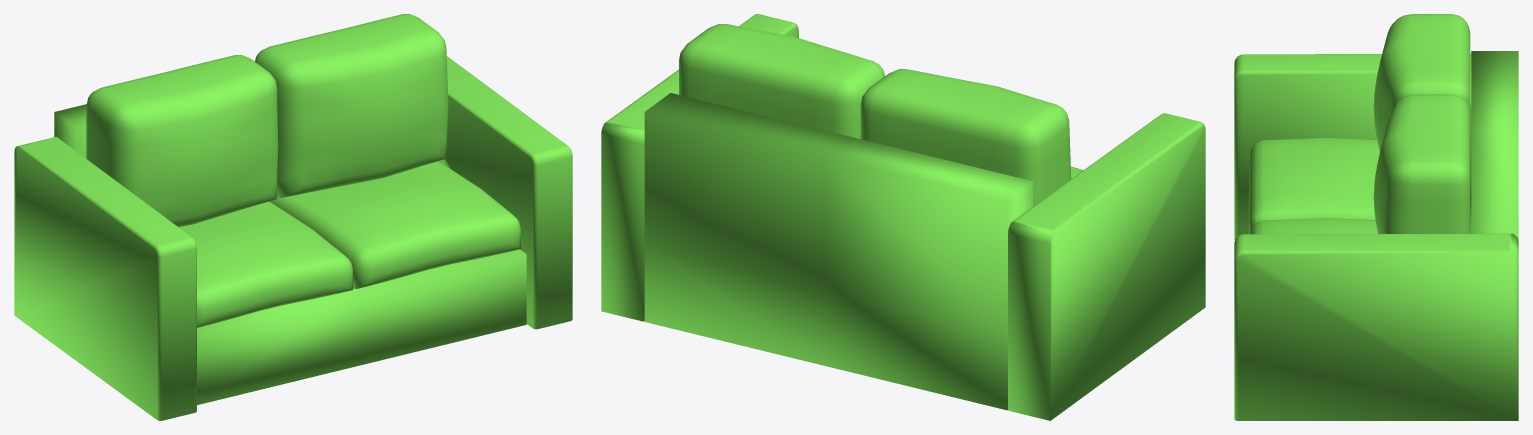
Rendered from SM_Sofa_001.fbx.
3 renders of one model, left to right at view 1: azimuth 30°, elevation 25°; view 2: azimuth 150°, elevation 25°; view 3: azimuth 270°, elevation 25°, orthographic. The views are drawn at different scales.
Visible parts, largest first — view 1: Sofa; view 2: Sofa; view 3: Sofa.
Part boxes in pixels (x1=…): Sofa: x1=14, y1=14, x2=572, y2=420; Sofa: x1=601, y1=14, x2=1205, y2=420; Sofa: x1=1234, y1=14, x2=1518, y2=420.
Bounding box in the file's own units: 177 × 97 × 107.
